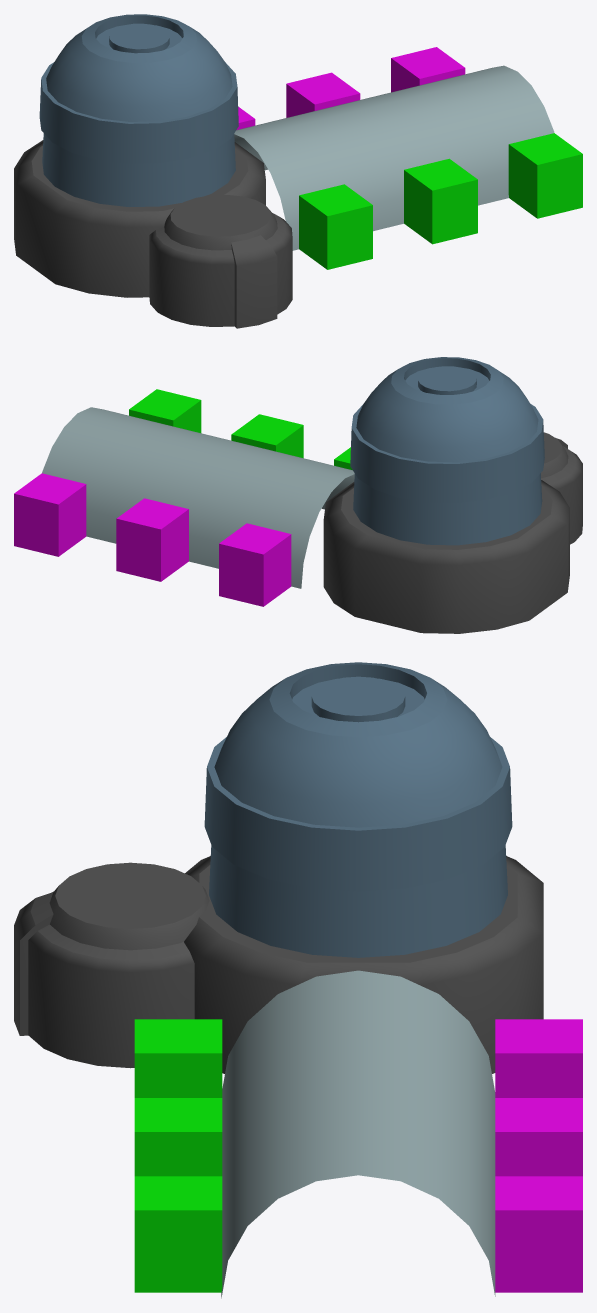
Rendered from SM_Processor.fbx.
The picture shows the model from 3 angles, top to bottom: view 1: azimuth 30°, elevation 25°; view 2: azimuth 150°, elevation 25°; view 3: azimuth 270°, elevation 25°; orthographic projection. The views are drawn at different scales.
Visible parts, largest first — view 1: SM_ProcessingPlant; view 2: SM_ProcessingPlant; view 3: SM_ProcessingPlant.
Boxes of the visible parts, bbox=[...] form: SM_ProcessingPlant: bbox=[14, 14, 582, 328]; SM_ProcessingPlant: bbox=[14, 357, 582, 633]; SM_ProcessingPlant: bbox=[14, 662, 582, 1298].
Bounding box in the file's own units: 600 × 250 × 400.
